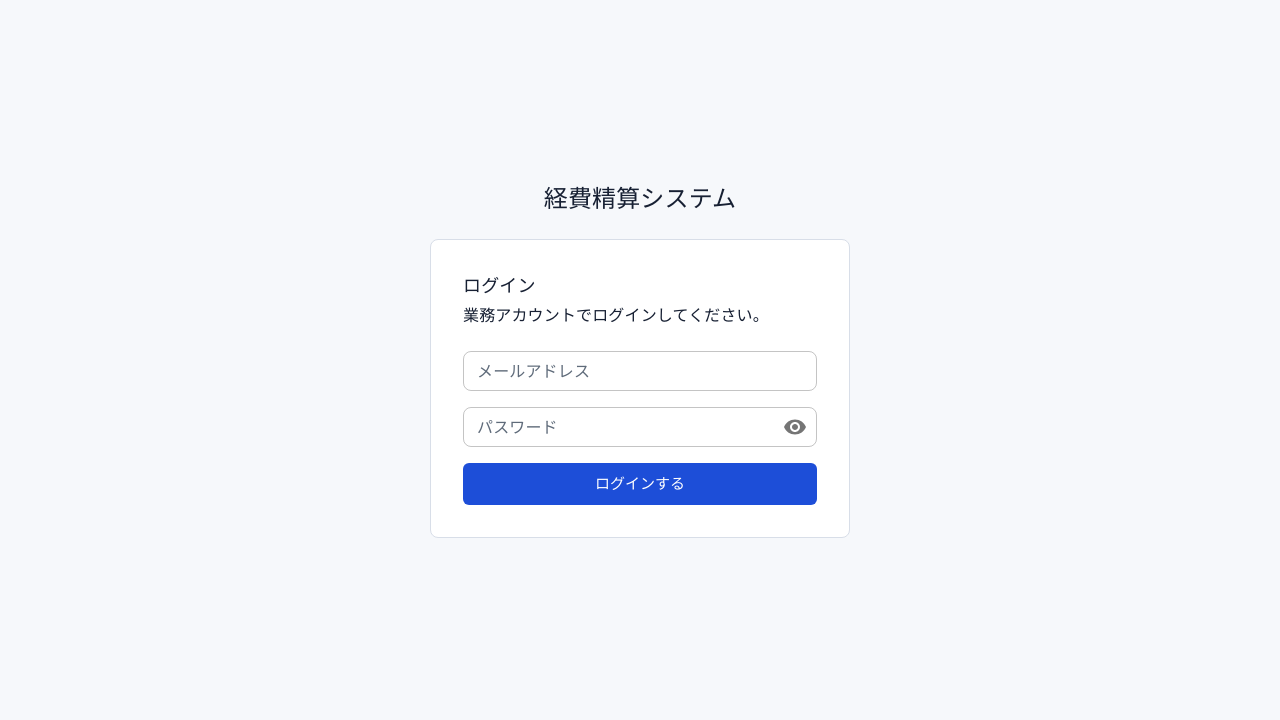
it: App › CSRF付きSession login後に申請一覧を取得する
Type "user@example.com" into the field labelled "メールアドレス" at (640, 371), box [463,351,817,391]
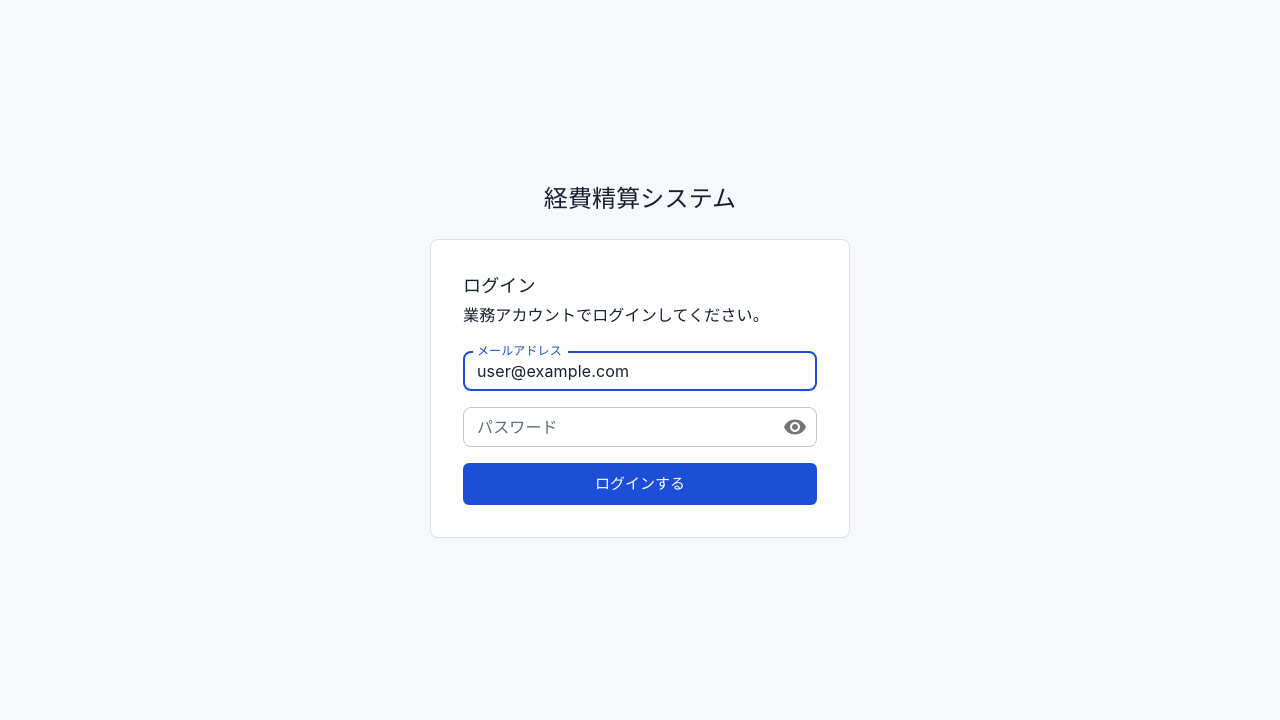
Type "Password123!" into the password field labelled "パスワード" at (615, 427), box [463,407,767,447]
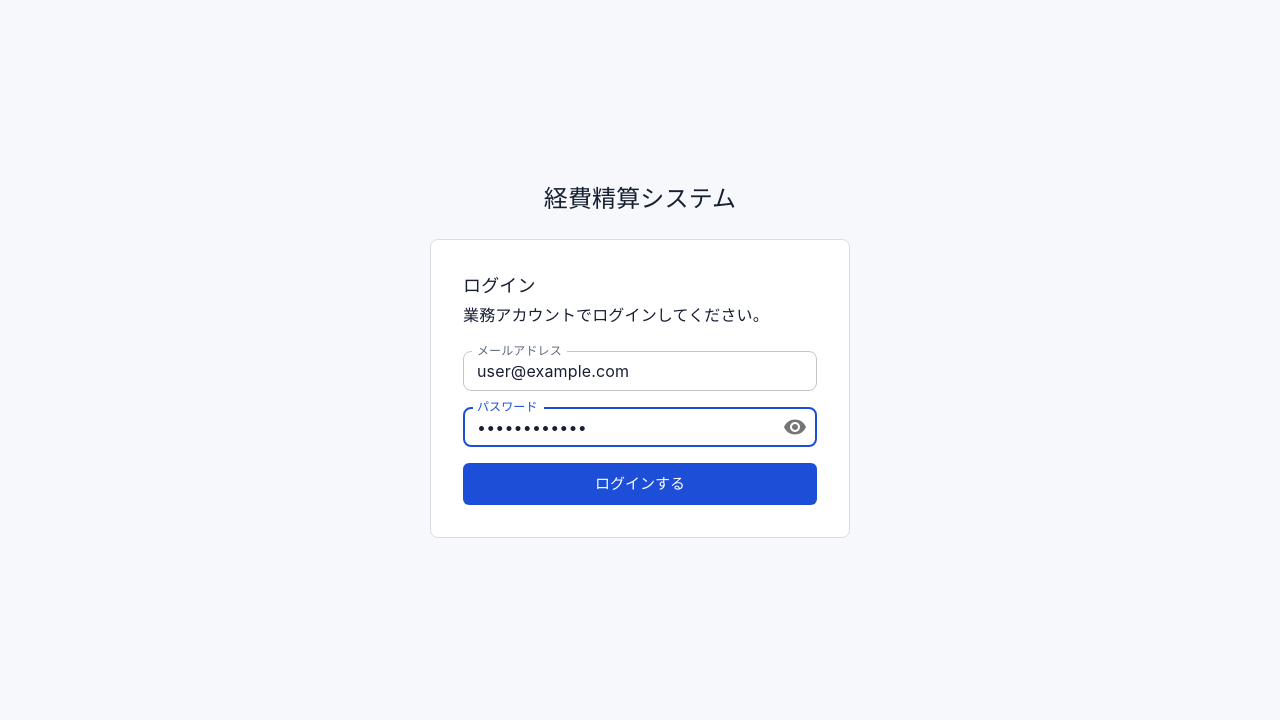
Click the button "ログインする" at (640, 484), box [463,463,817,506]
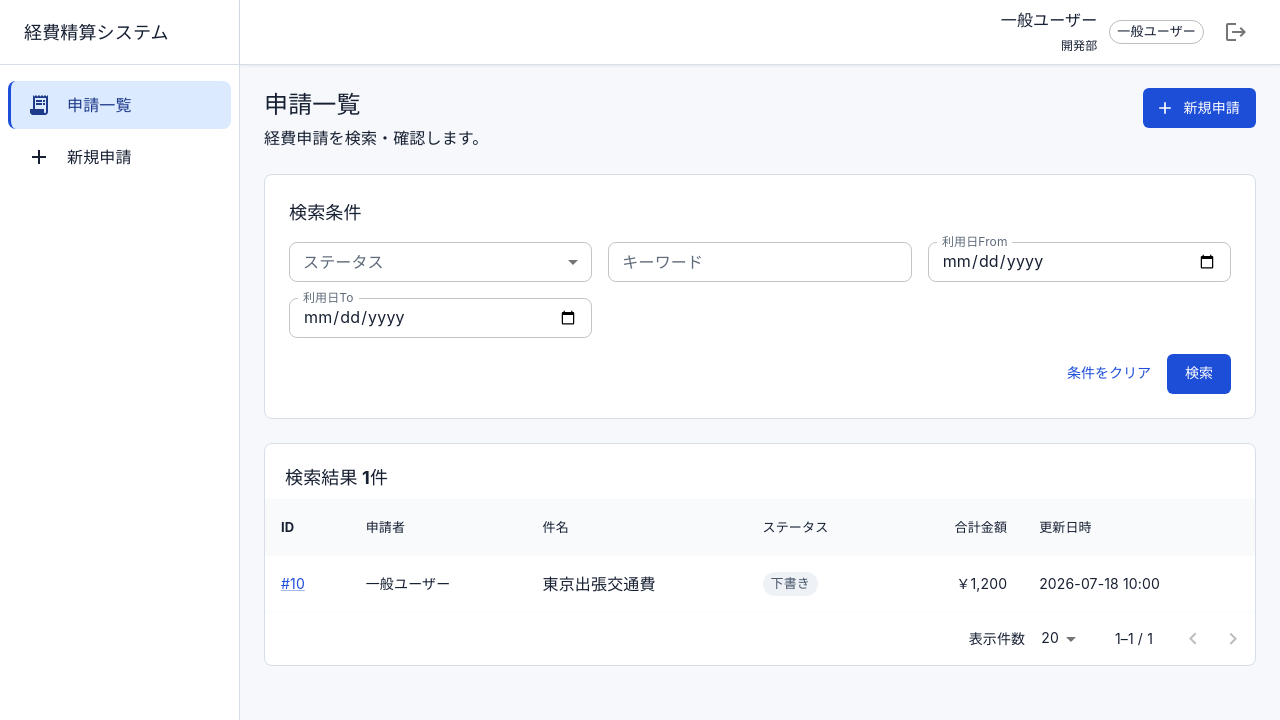
Expected: the heading "申請一覧" is shown, [264,90,361,119]
Expected: the text "東京出張交通費" is shown, [543,574,656,594]
